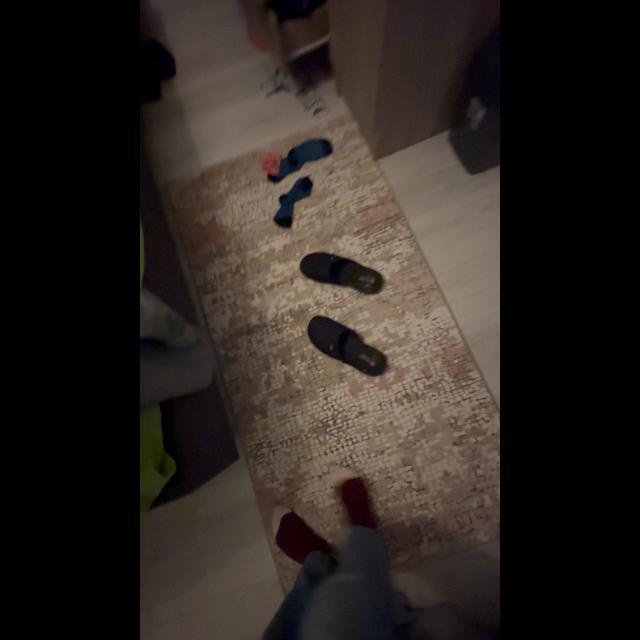slipper: (298, 309, 394, 383), (296, 247, 390, 301)
